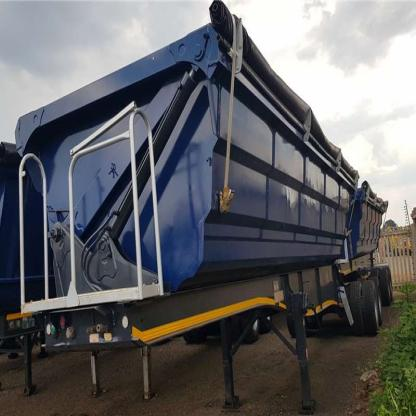dump_truck: (42, 2, 416, 412)
